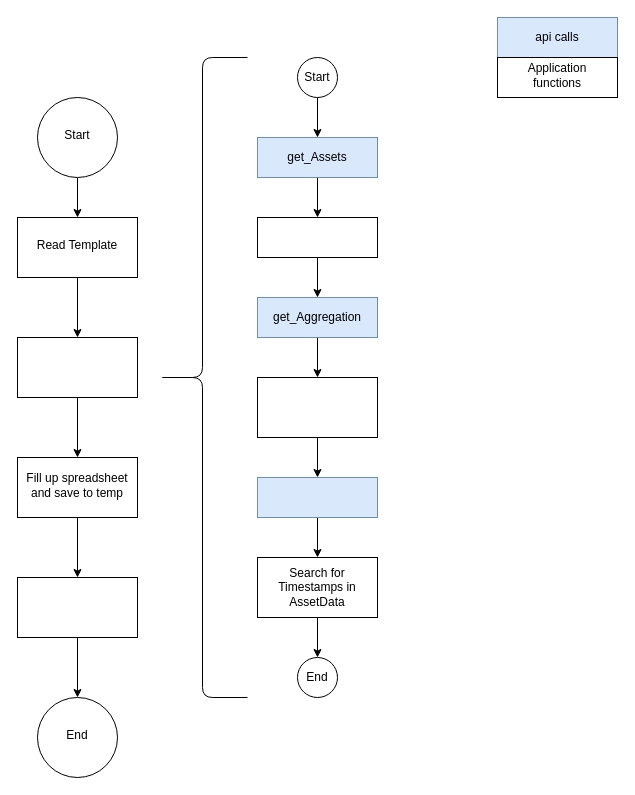
Image size: 635x795. Some labels were removed from this diagram. Each missing label, with the centre of its shape:
Get Asset Data: the point at 77,367
get_Aggregated_Data: the point at 317,497
Search for AggregationId with AssetId, Attribute and Raster: the point at 317,407
Search the AssetId with the AssetGai: the point at 317,237
Send report to customer: the point at 77,607
